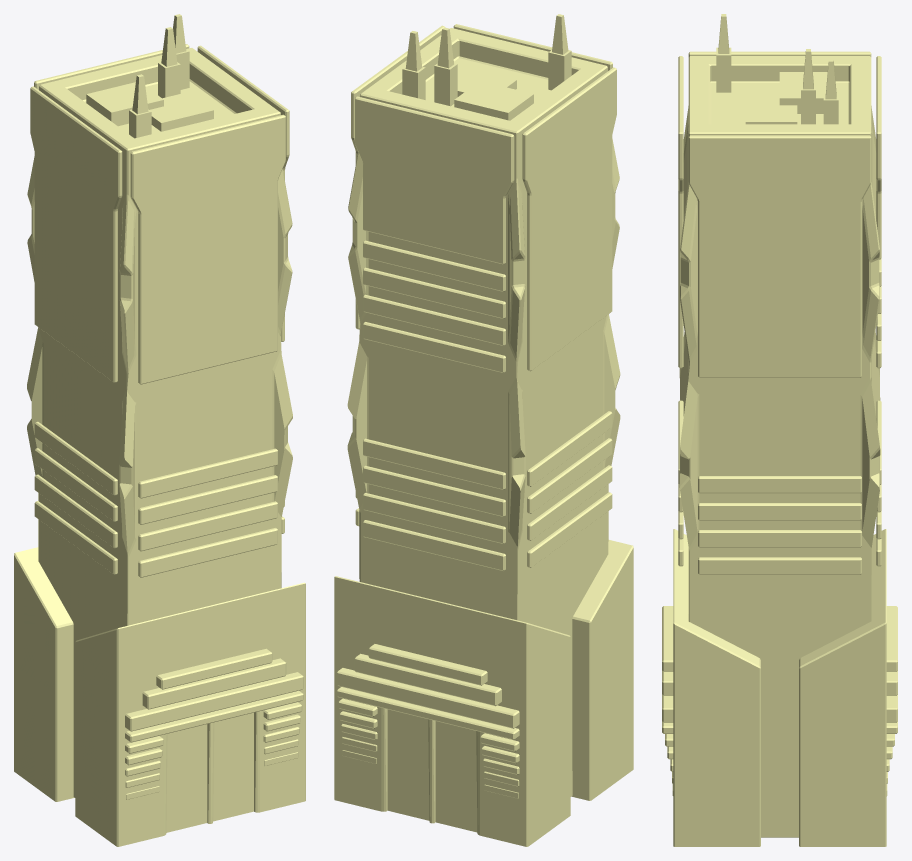
Rendered from MangaKa Props - F_S_ScifiBuilding_20.glb.
3 views of the same model, side by side, from view 1: azimuth 30°, elevation 25°; view 2: azimuth 150°, elevation 25°; view 3: azimuth 270°, elevation 25° (orthographic). The views are drawn at different scales.
Parts seen in each view (by area): view 1: F_S_ScifiBuilding_20001_blueScreen, F_S_ScifiBuilding_20002_blueScreen, F_S_ScifiBuilding_20003_blueScreen, F_S_ScifiBuilding_20_blueScreen; view 2: F_S_ScifiBuilding_20001_blueScreen, F_S_ScifiBuilding_20002_blueScreen, F_S_ScifiBuilding_20003_blueScreen, F_S_ScifiBuilding_20_blueScreen; view 3: F_S_ScifiBuilding_20001_blueScreen, F_S_ScifiBuilding_20002_blueScreen, F_S_ScifiBuilding_20_blueScreen, F_S_ScifiBuilding_20003_blueScreen.
Part boxes in pixels (left/top/right/bottom): F_S_ScifiBuilding_20001_blueScreen: left=14, top=48, right=305, bottom=846; F_S_ScifiBuilding_20002_blueScreen: left=30, top=44, right=289, bottom=577; F_S_ScifiBuilding_20003_blueScreen: left=125, top=648, right=303, bottom=832; F_S_ScifiBuilding_20_blueScreen: left=86, top=14, right=213, bottom=138; F_S_ScifiBuilding_20001_blueScreen: left=334, top=28, right=633, bottom=846; F_S_ScifiBuilding_20002_blueScreen: left=351, top=24, right=616, bottom=570; F_S_ScifiBuilding_20003_blueScreen: left=336, top=644, right=519, bottom=832; F_S_ScifiBuilding_20_blueScreen: left=402, top=14, right=571, bottom=120; F_S_ScifiBuilding_20001_blueScreen: left=673, top=56, right=886, bottom=846; F_S_ScifiBuilding_20002_blueScreen: left=678, top=51, right=881, bottom=574; F_S_ScifiBuilding_20_blueScreen: left=716, top=14, right=838, bottom=124; F_S_ScifiBuilding_20003_blueScreen: left=662, top=606, right=897, bottom=795.
Bounding box in the file's own units: 4.82 × 18.05 × 5.07.
